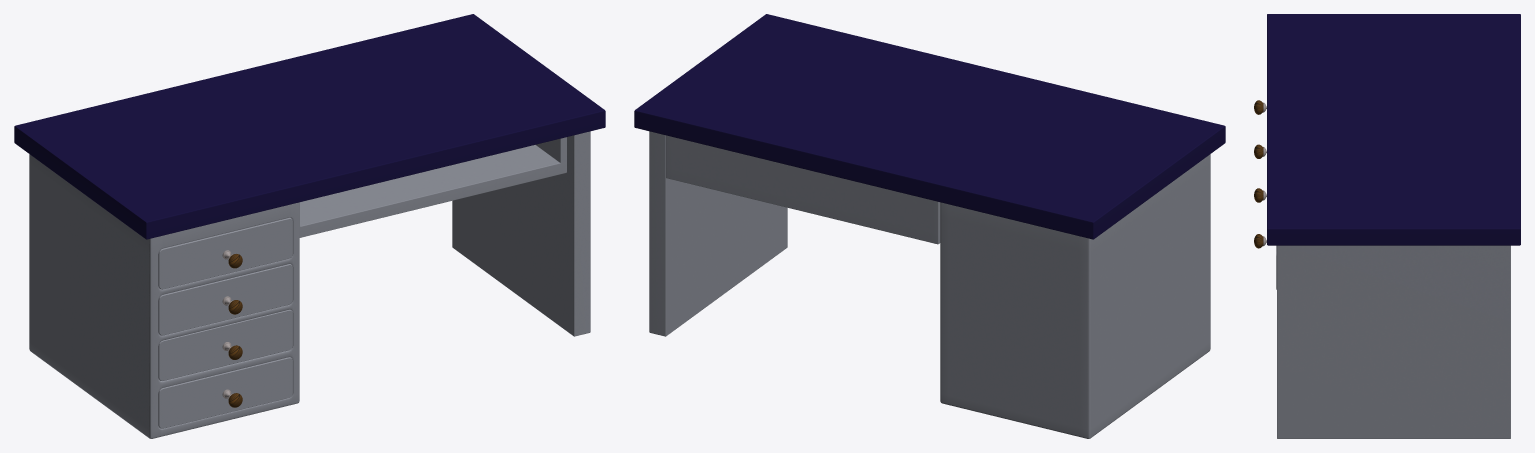
The model's file is research_table.glb.
3 renders of one model, left to right at view 1: azimuth 30°, elevation 25°; view 2: azimuth 150°, elevation 25°; view 3: azimuth 270°, elevation 25°, orthographic. The views are drawn at different scales.
Parts seen in each view (by area): view 1: Object_2; view 2: Object_2; view 3: Object_2.
Part boxes in pixels (box(x1,y1,x2,y2)): Object_2: box(14, 14, 605, 438); Object_2: box(634, 14, 1225, 438); Object_2: box(1254, 14, 1520, 438).
Size of the model in its own units: 119 by 55.44 by 62.36.
Materials: 1 (1 with a texture image).
